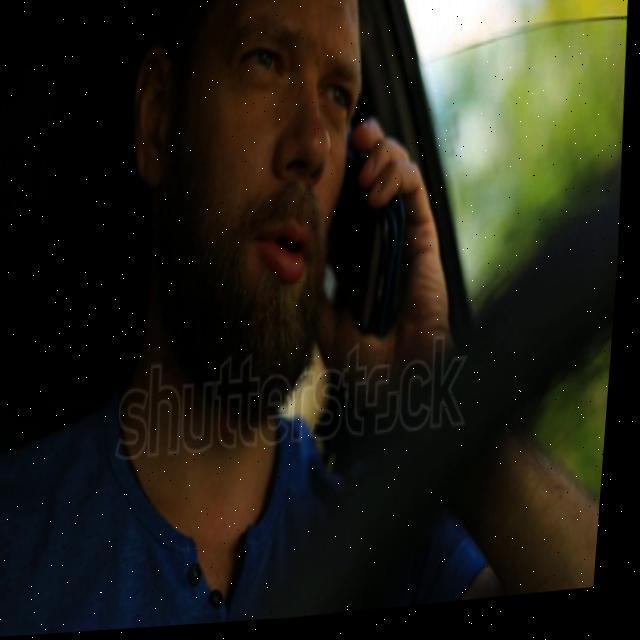PhoneCall: (325, 138, 414, 350)
